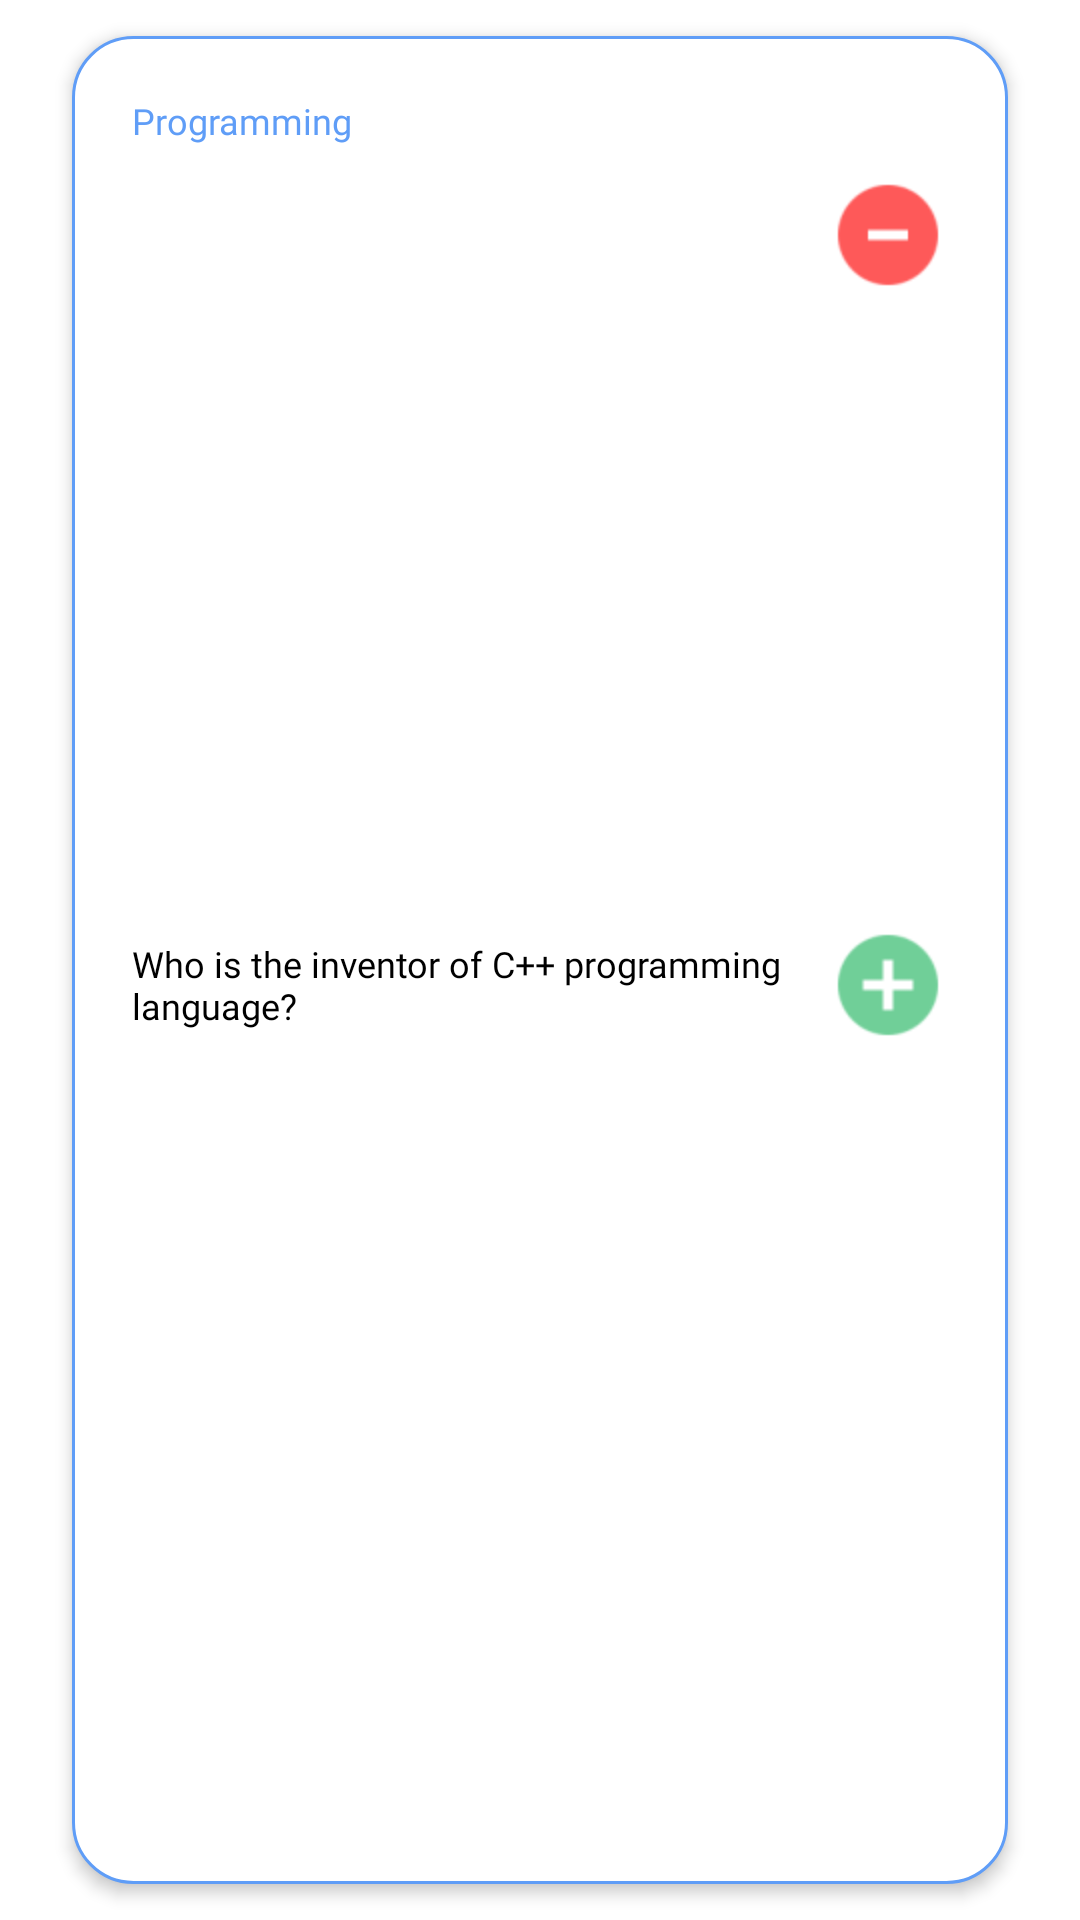

Icon bounding boxes for this 1080 x 1920 phone screenshot, format bbox=[x1, y1, x2, y2]:
add card: bbox=[837, 934, 939, 1036]
remove card: bbox=[837, 184, 939, 286]
